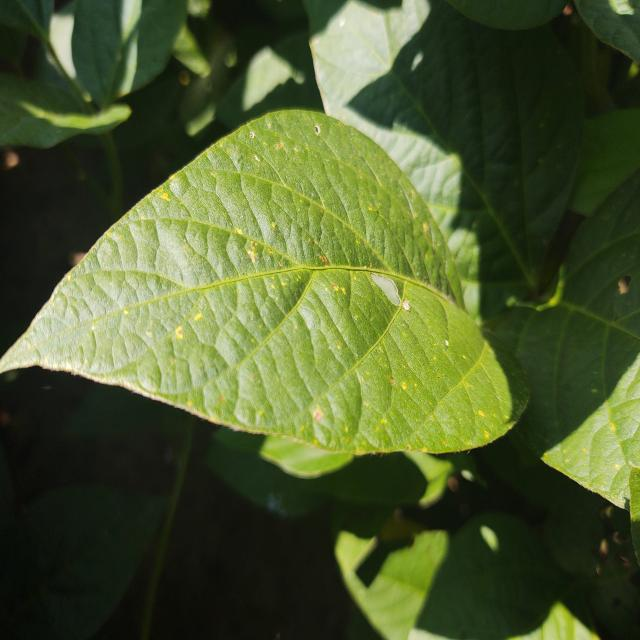Soybean: (0, 0, 640, 640)
downey_mildew: (362, 297, 467, 441), (229, 121, 330, 209), (342, 271, 398, 350), (285, 214, 345, 276), (219, 422, 329, 445), (240, 224, 276, 291), (239, 231, 287, 275), (470, 397, 513, 446), (93, 371, 155, 401), (2, 347, 43, 376), (610, 0, 634, 15), (617, 275, 631, 295), (246, 241, 259, 261), (411, 52, 423, 70), (313, 408, 323, 421), (175, 326, 184, 339), (402, 300, 411, 311), (389, 377, 397, 387), (161, 192, 169, 201), (194, 312, 202, 321), (423, 222, 429, 232), (401, 381, 407, 391), (235, 227, 242, 235), (219, 395, 226, 403), (251, 241, 257, 250), (314, 125, 320, 134), (277, 142, 284, 149), (406, 443, 413, 450), (254, 154, 260, 162), (258, 409, 264, 417), (610, 423, 616, 431), (444, 339, 450, 347), (381, 418, 387, 425), (268, 248, 274, 255), (123, 309, 129, 316), (249, 131, 255, 138), (271, 221, 276, 229), (615, 463, 621, 469), (67, 274, 72, 281), (344, 425, 349, 432), (591, 388, 598, 393), (337, 342, 341, 350), (91, 325, 96, 331), (188, 400, 193, 406), (106, 230, 111, 236), (462, 354, 467, 360), (300, 426, 305, 432), (432, 355, 437, 360), (582, 448, 587, 453)
